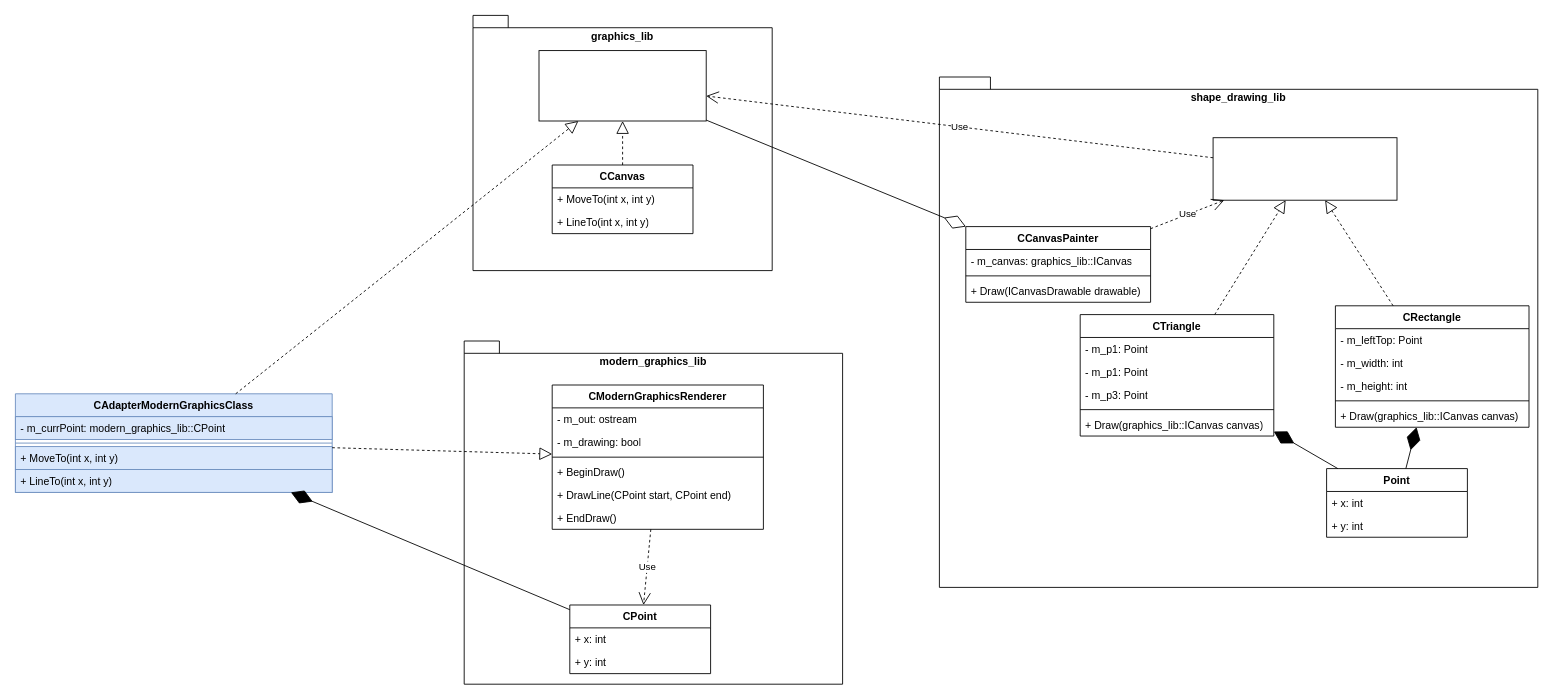
The diagram is 1553 pixels wide and 700 high, and some of its shapes have lost their labels. Here are the shapes that lost their labels. From the top down, the centre of each, then its label:
(x=622, y=85): <<Interface>> ICanvas + MoveTo(int x, int y) + LineTo(int x, int y)
(x=1304, y=168): <<Interface>> ICanvasDrawable + Draw(graphics_lib::ICanvas canvas)
